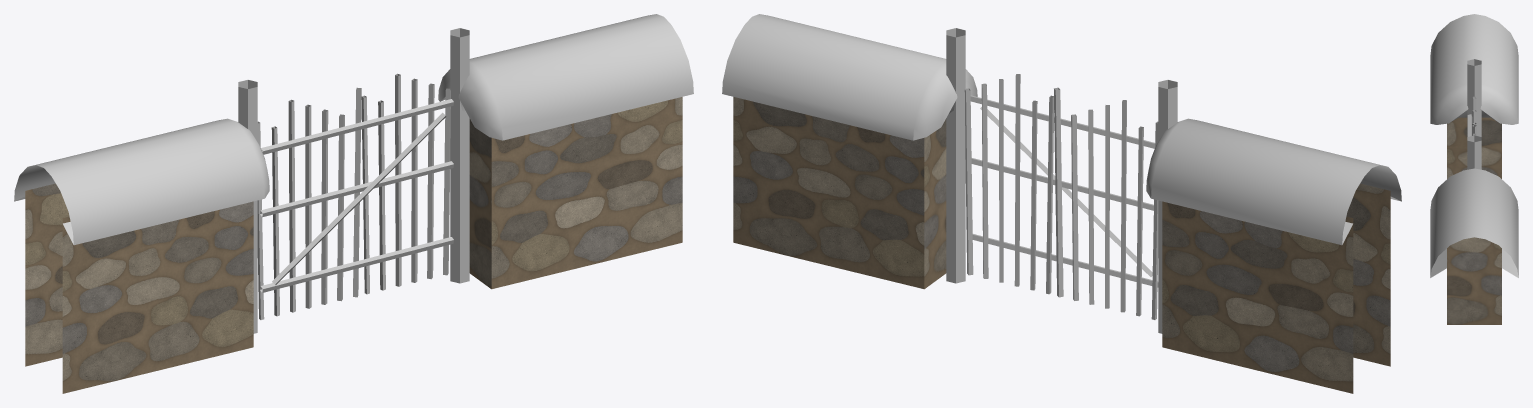
File: Hanok_Gate_Choga_01.fbx
3 renders of one model, left to right at view 1: azimuth 30°, elevation 25°; view 2: azimuth 150°, elevation 25°; view 3: azimuth 270°, elevation 25°, orthographic. The views are drawn at different scales.
Visible parts, largest first — view 1: Gate_Choga_02; view 2: Gate_Choga_02; view 3: Gate_Choga_02.
Boxes of the visible parts, x1,y1,x2,y2 form: Gate_Choga_02: (14,14,693,393); Gate_Choga_02: (722,14,1401,393); Gate_Choga_02: (1430,14,1518,324).
Bounding box in the file's own units: 4.8 × 1.82 × 0.8.
